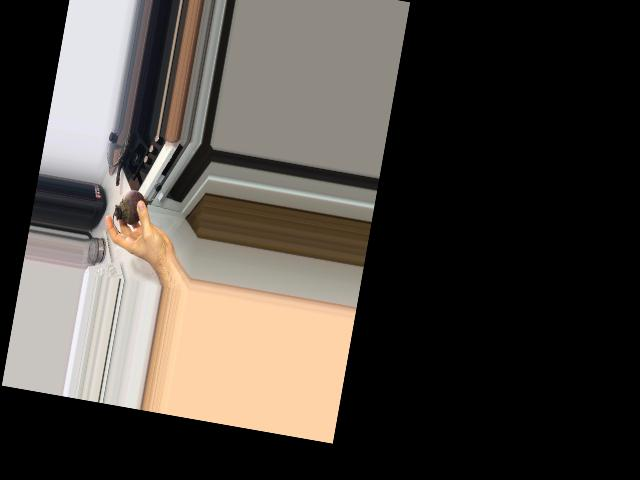beet: (111, 187, 155, 237)
